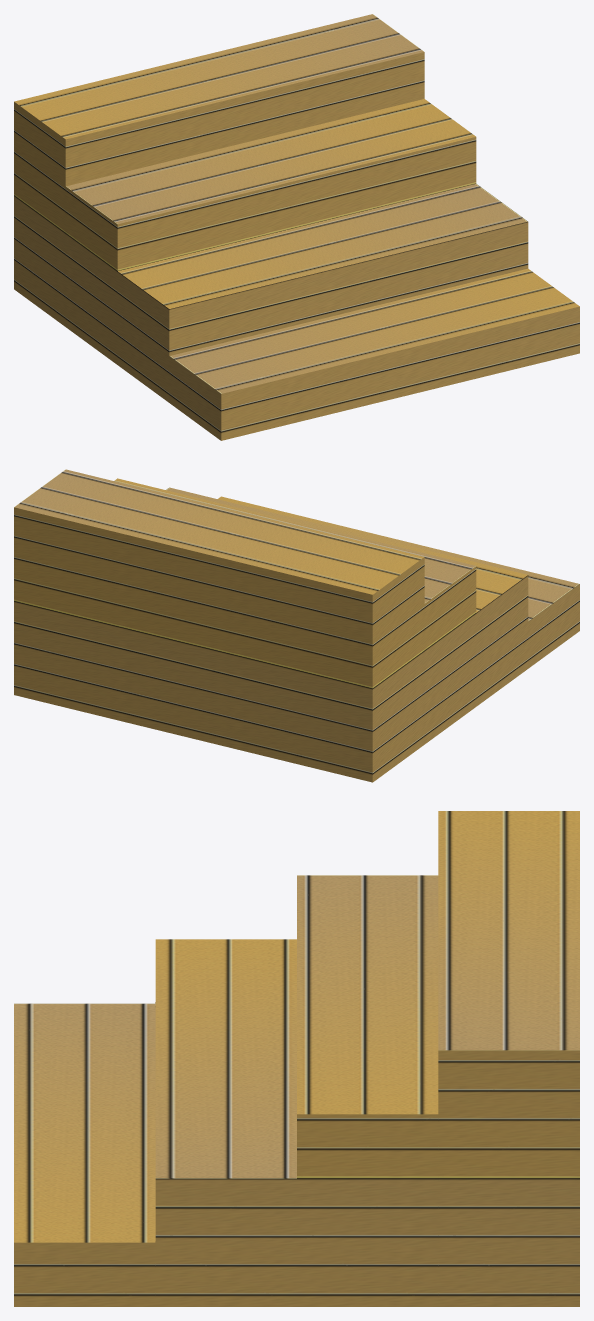
File: escalier.fbx
The picture shows the model from 3 angles, top to bottom: view 1: azimuth 30°, elevation 25°; view 2: azimuth 150°, elevation 25°; view 3: azimuth 270°, elevation 25°; orthographic projection. The views are drawn at different scales.
Parts seen in each view (by area): view 1: Cube; view 2: Cube; view 3: Cube.
Part boxes in pixels (box(x1,y1,x2,y2)): Cube: box(14, 14, 579, 440); Cube: box(14, 469, 579, 782); Cube: box(14, 811, 579, 1306).
Size of the model in its own units: 100 by 50 by 100.
1 material, 1 textured.
